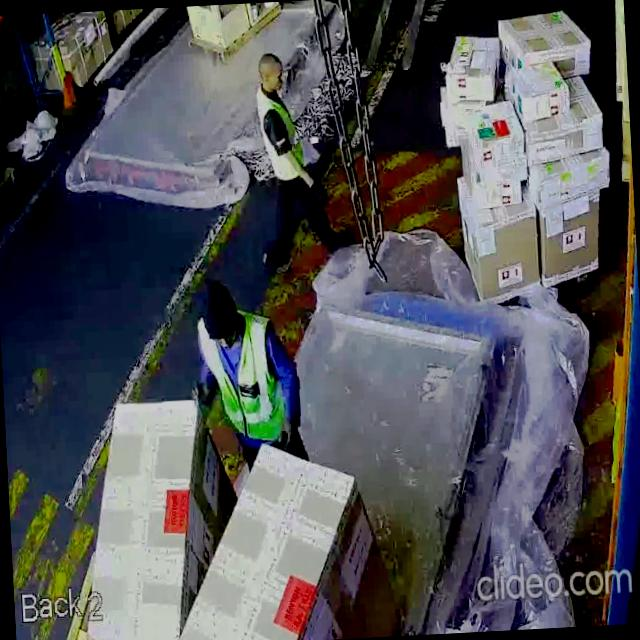Box: (459, 205, 543, 293), (500, 11, 590, 70), (538, 202, 602, 284), (442, 30, 496, 100), (466, 103, 527, 164), (536, 120, 608, 159), (538, 159, 611, 196), (515, 64, 563, 112)
